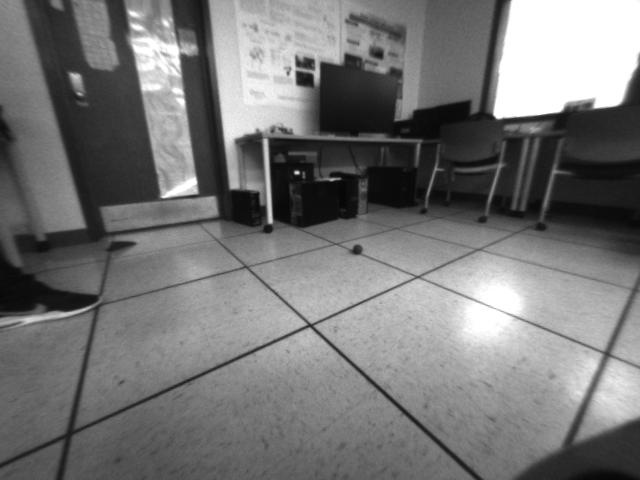dogtoy: (346, 236, 373, 258)
